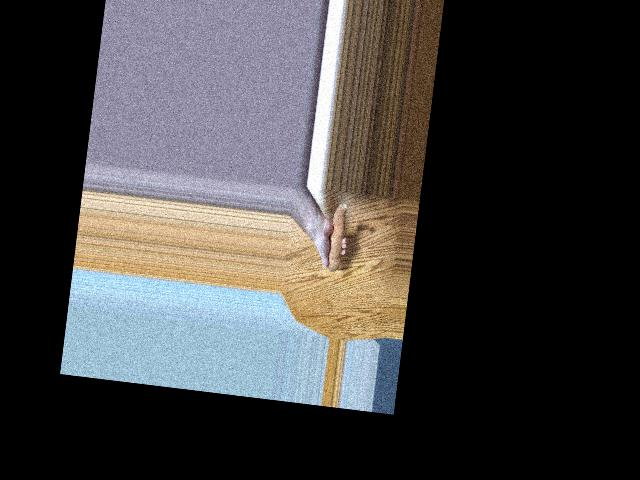sweet_potato: (319, 200, 348, 273)
